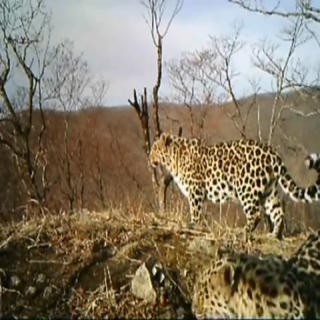Leopard: (136, 124, 320, 236)
